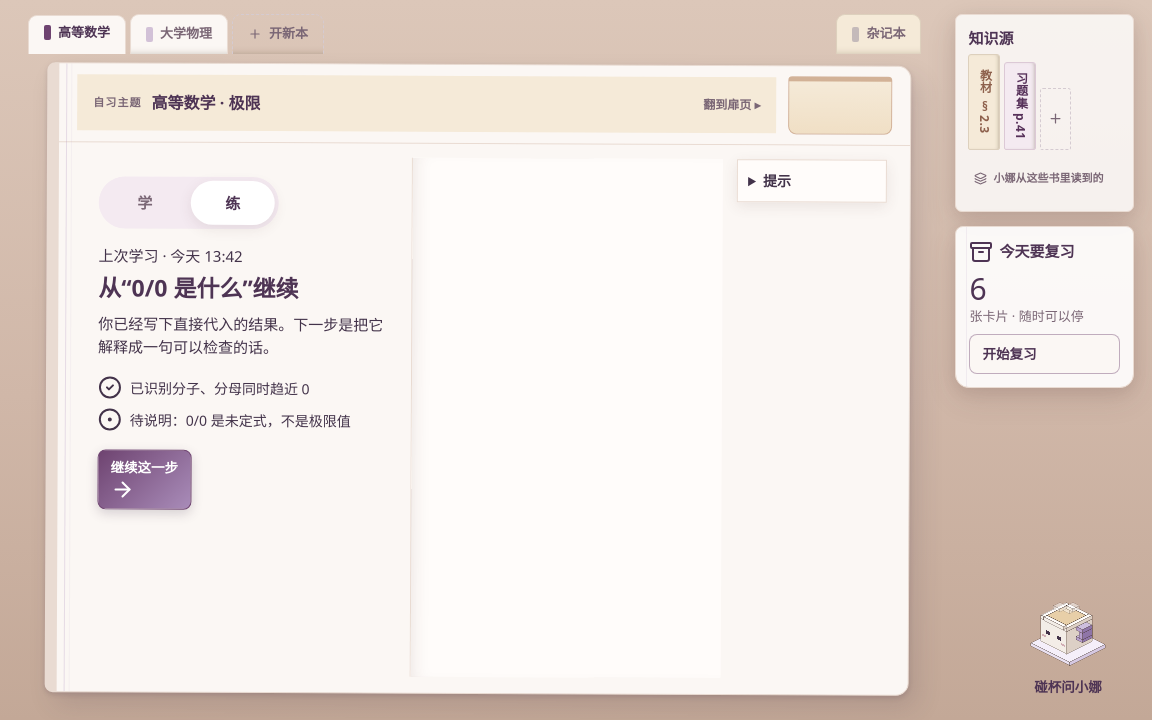
DeskScene FE-01 preview › reviews due cards through the canonical adapter and returns to the desk
The image size is (1152, 720).
Click the button "开始复习" at (1045, 354), box [970, 334, 1120, 374]
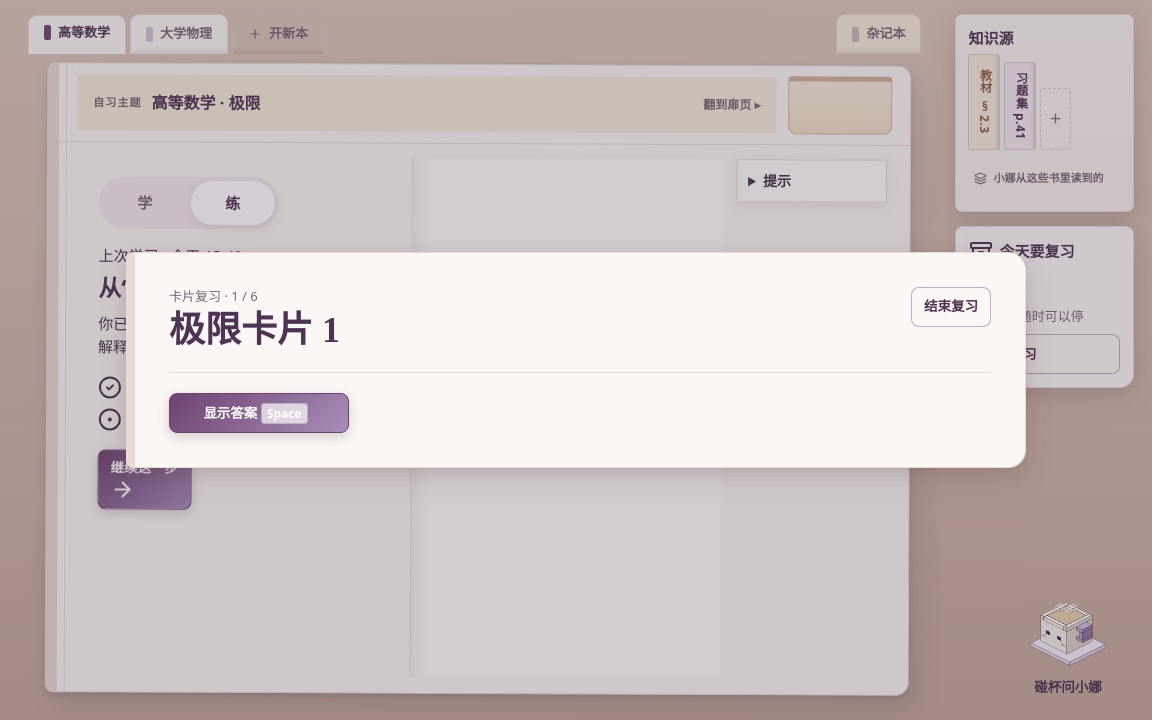
Expected: the heading "极限卡片 1" is shown, [169, 310, 340, 351]
Click the button "显示答案 Space" at (259, 413), box [169, 393, 349, 433]
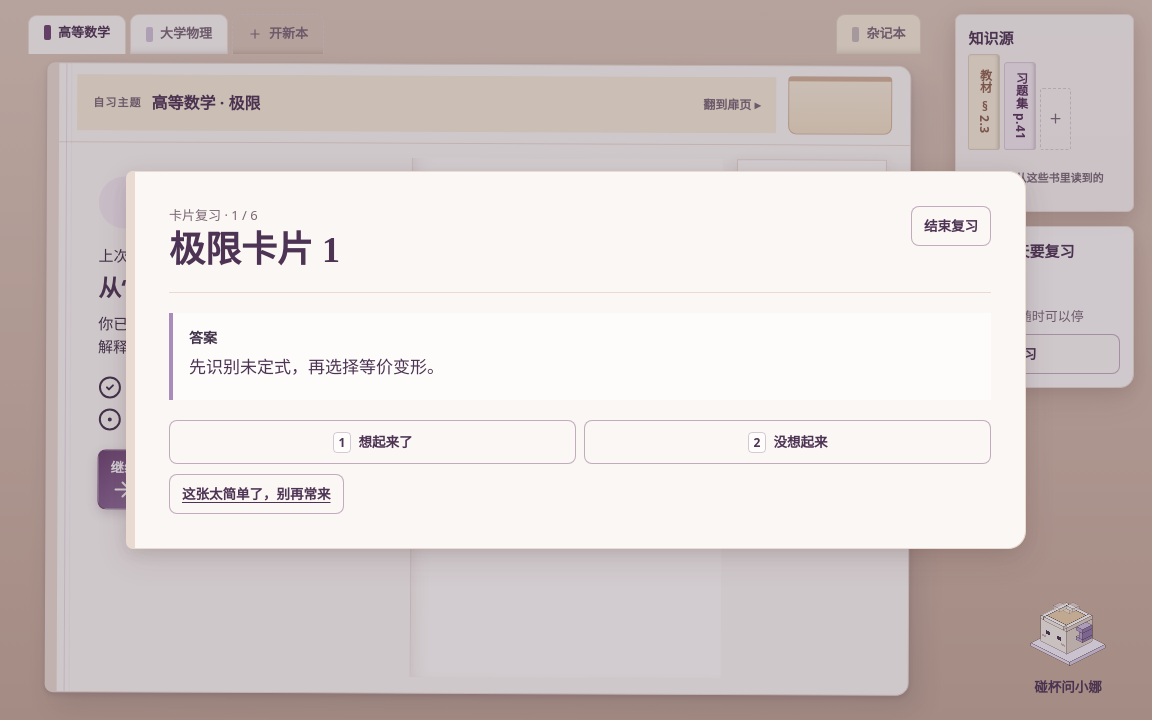
Expected: the button "1想起来了" is shown
Expected: the button "2没想起来" is shown, [584, 420, 991, 464]
Expected: the button "这张太简单了，别再常来" is shown, [169, 474, 344, 514]
Click the button "1想起来了" at (372, 442), box [169, 420, 576, 464]
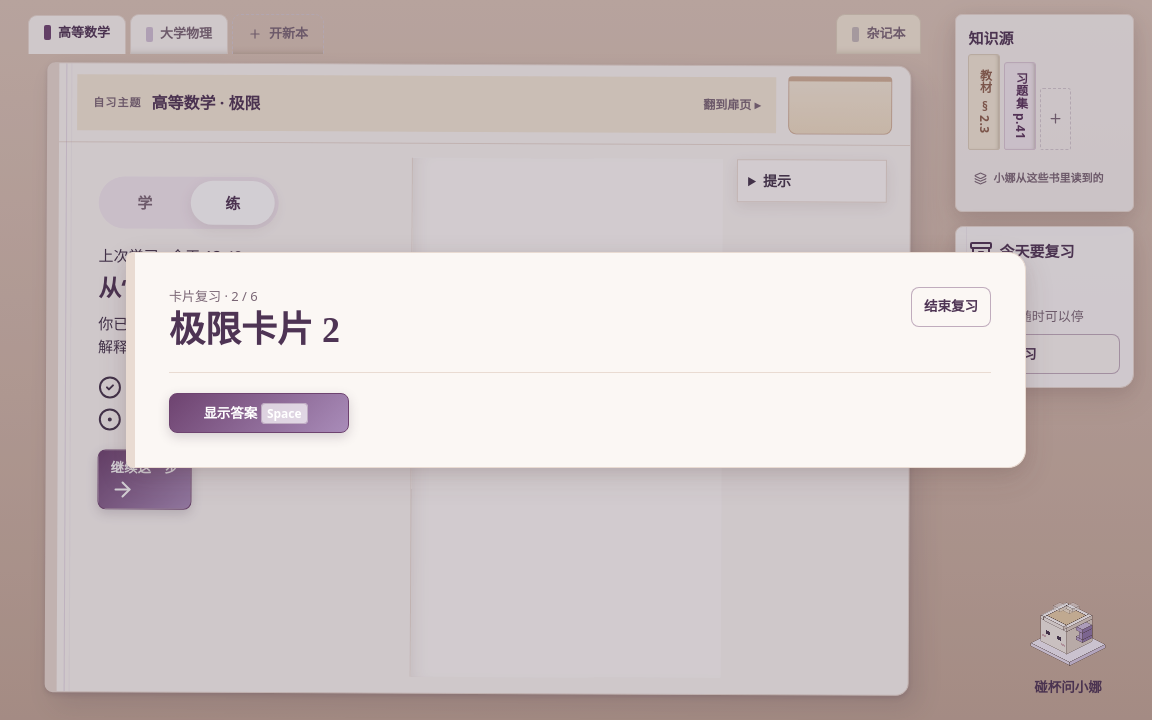
Expected: the heading "极限卡片 2" is shown, [169, 310, 340, 351]
